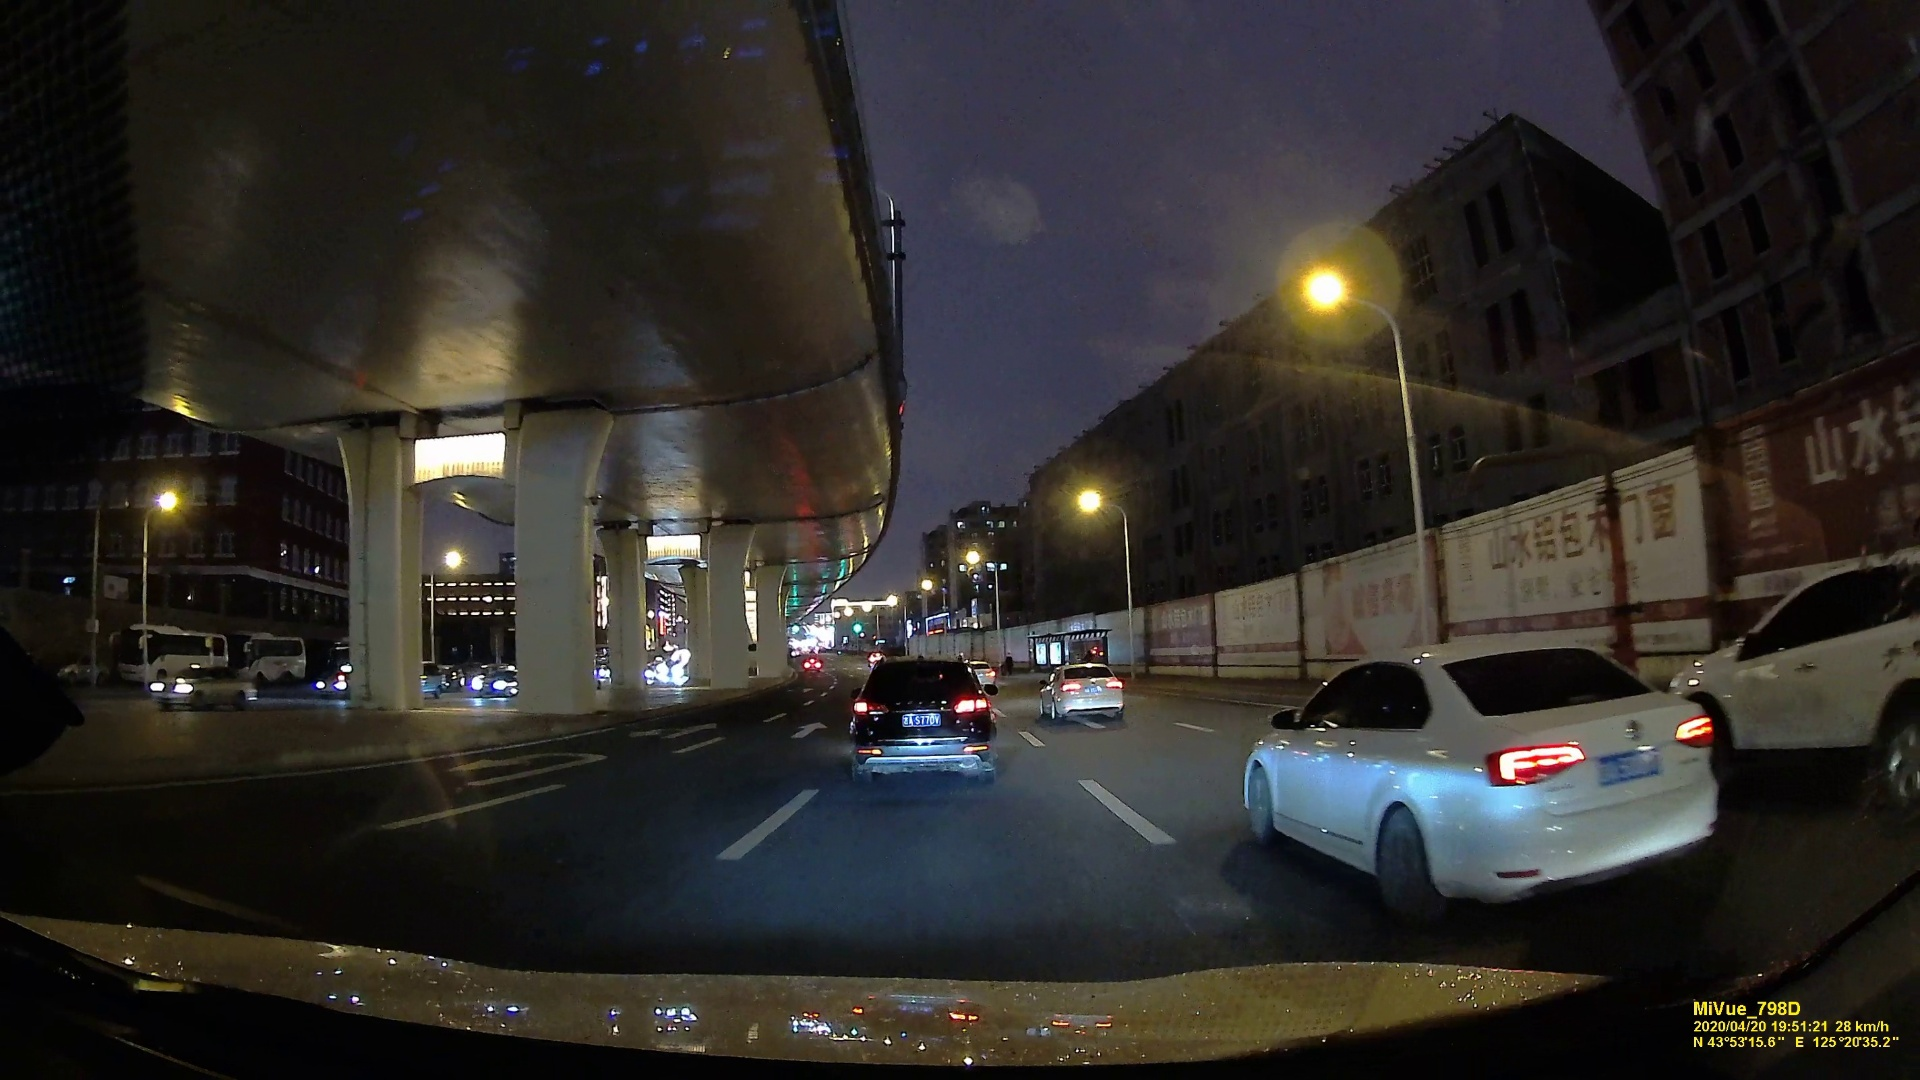bus: (117, 624, 225, 680), (233, 630, 303, 682)
vehicle: (1245, 637, 1737, 914), (1662, 560, 1915, 794), (847, 654, 1000, 789), (1038, 661, 1126, 723), (148, 666, 257, 709), (471, 670, 516, 695), (804, 655, 822, 671)
